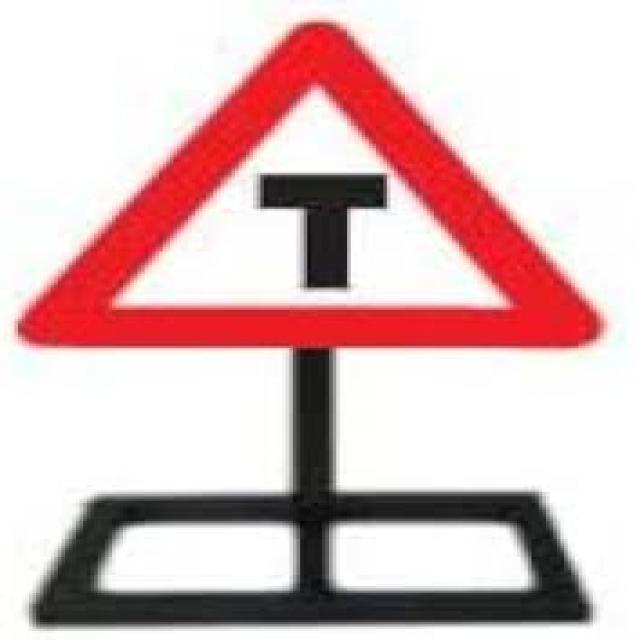t intersection: (24, 23, 597, 343)
